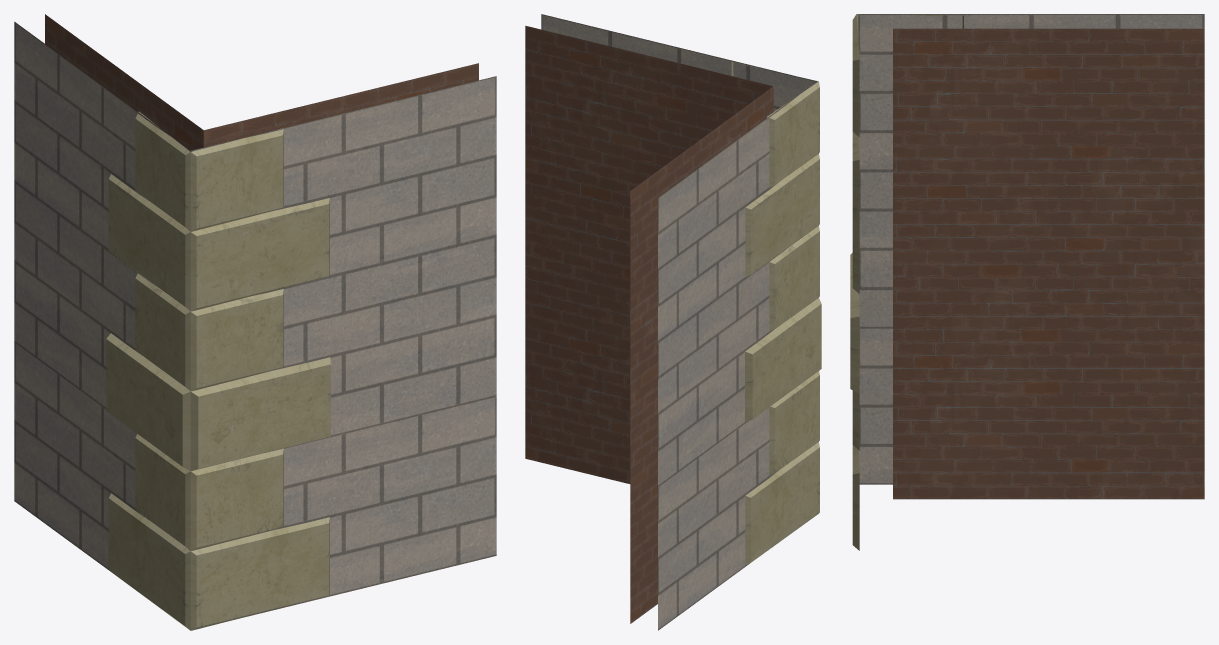
Rendered from WhiteBrick_Corner.gltf.
The picture shows the model from 3 angles, left to right: view 1: azimuth 30°, elevation 25°; view 2: azimuth 150°, elevation 25°; view 3: azimuth 270°, elevation 25°; orthographic projection. The views are drawn at different scales.
Visible parts, largest first — view 1: WhiteBrick_Corner; view 2: WhiteBrick_Corner; view 3: WhiteBrick_Corner.
Boxes of the visible parts, bbox=[...] form: WhiteBrick_Corner: bbox=[14, 14, 496, 630]; WhiteBrick_Corner: bbox=[525, 14, 821, 630]; WhiteBrick_Corner: bbox=[850, 14, 1204, 550].
Bounding box in the file's own units: 2.04 × 3 × 2.05.
Materials: 3 (3 with a texture image).
